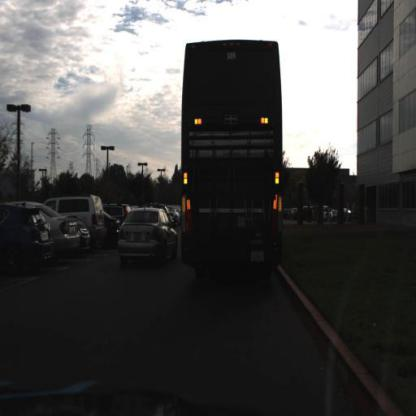car: (180, 36, 286, 286), (117, 207, 181, 271), (1, 201, 56, 268), (37, 203, 89, 253), (52, 211, 82, 256), (85, 193, 108, 241), (80, 222, 93, 251), (319, 203, 335, 222)
truck: (181, 36, 287, 262)
